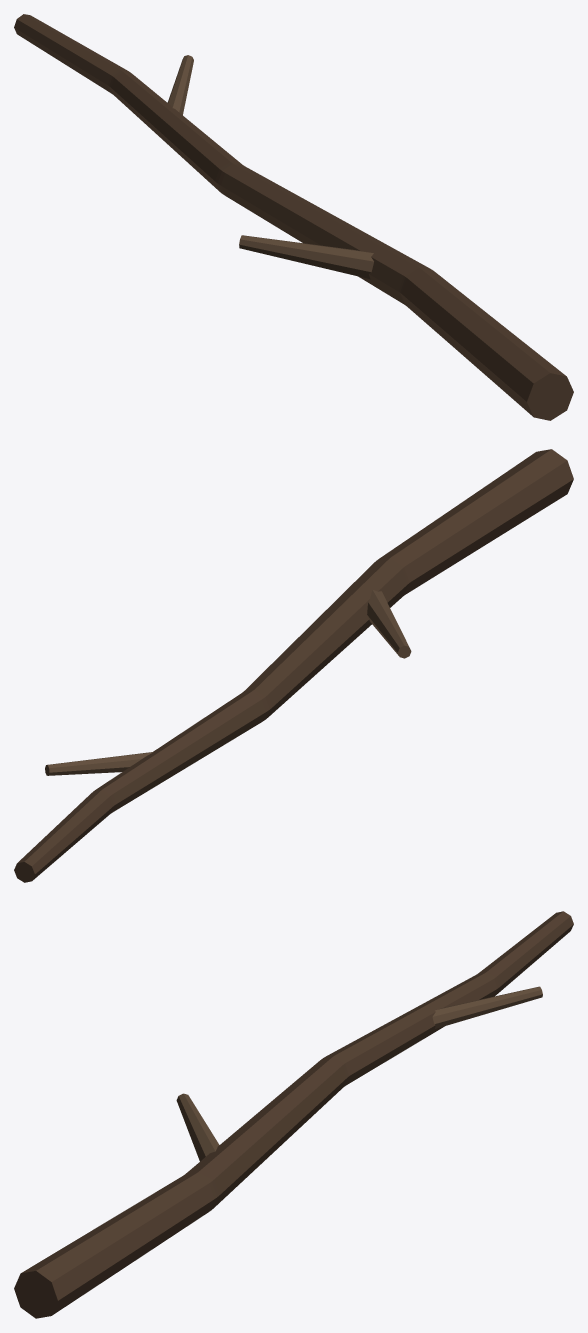
Rendered from branche.glb.
The picture shows the model from 3 angles, top to bottom: view 1: azimuth 30°, elevation 25°; view 2: azimuth 150°, elevation 25°; view 3: azimuth 330°, elevation 25°; orthographic projection.
Visible parts, largest first — view 1: wood, stub_a, stub_b; view 2: wood, stub_a, stub_b; view 3: wood, stub_b, stub_a.
Boxes of the visible parts, <box> form: wood: <box>14,14,573,420</box>; stub_a: <box>239,235,373,279</box>; stub_b: <box>167,55,193,114</box>; wood: <box>14,449,573,882</box>; stub_a: <box>367,589,411,658</box>; stub_b: <box>45,752,152,775</box>; wood: <box>14,911,573,1318</box>; stub_b: <box>432,986,542,1028</box>; stub_a: <box>176,1093,219,1161</box>.
Bounding box in the file's own units: 0.3166 × 0.09 × 1.8.
Materials: 2 (2 with a texture image).
